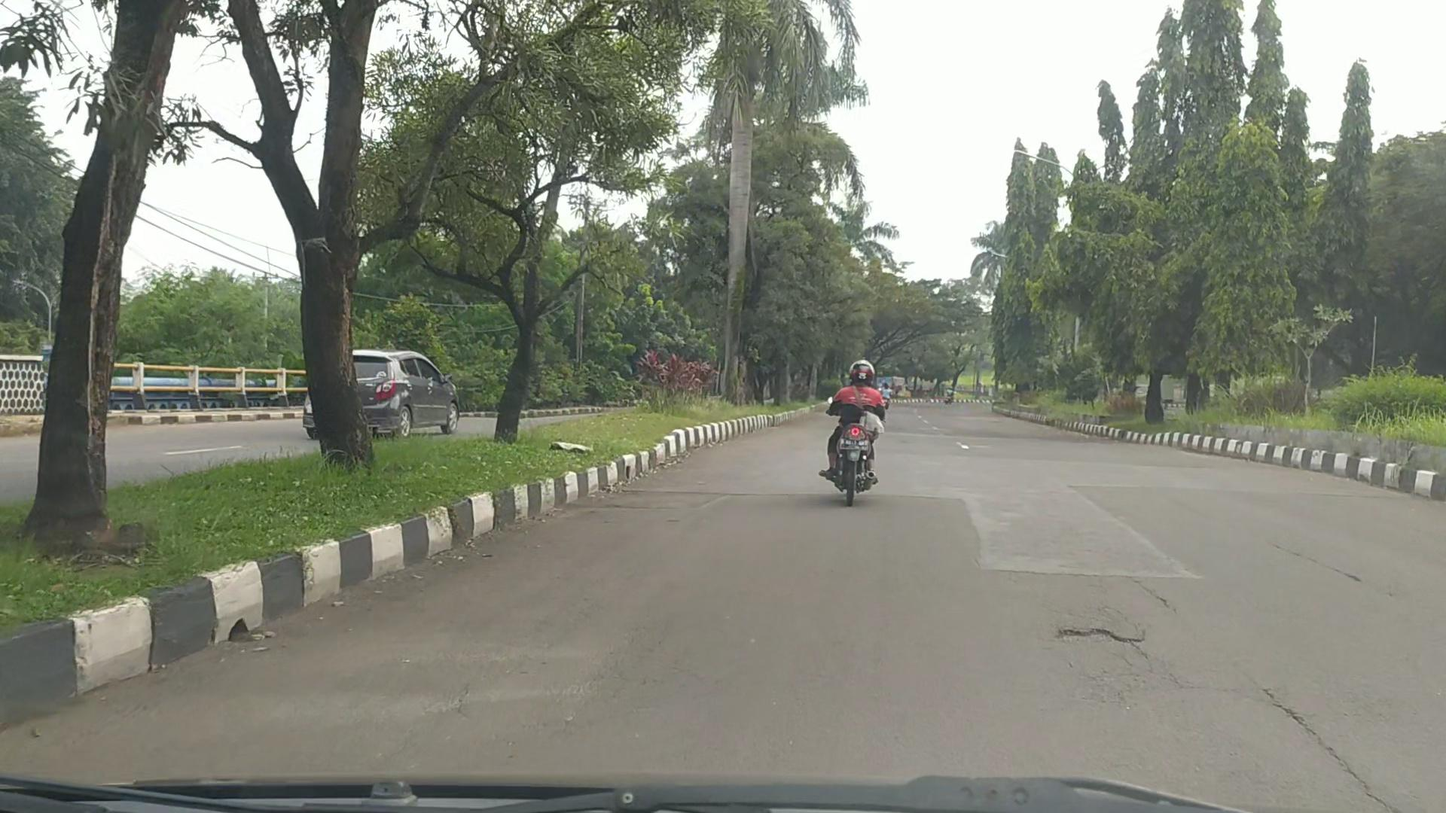pothole: (1055, 627, 1143, 645)
